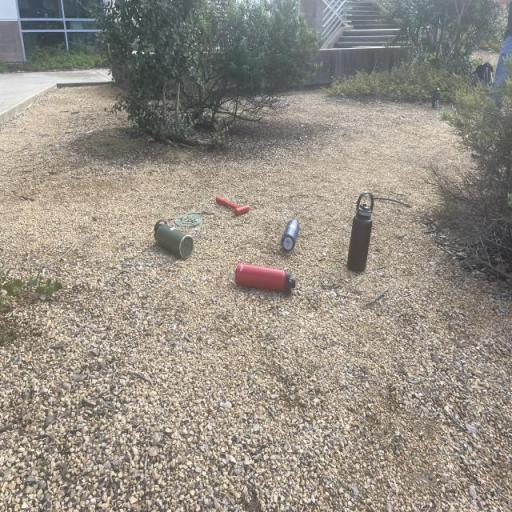bottle: (230, 257, 300, 297), (344, 191, 374, 273), (151, 218, 195, 260), (280, 213, 301, 255)
mallet: (214, 192, 252, 220)
